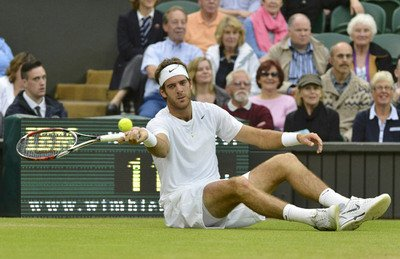10+: (1, 1, 400, 234)
down: (116, 50, 397, 233)
